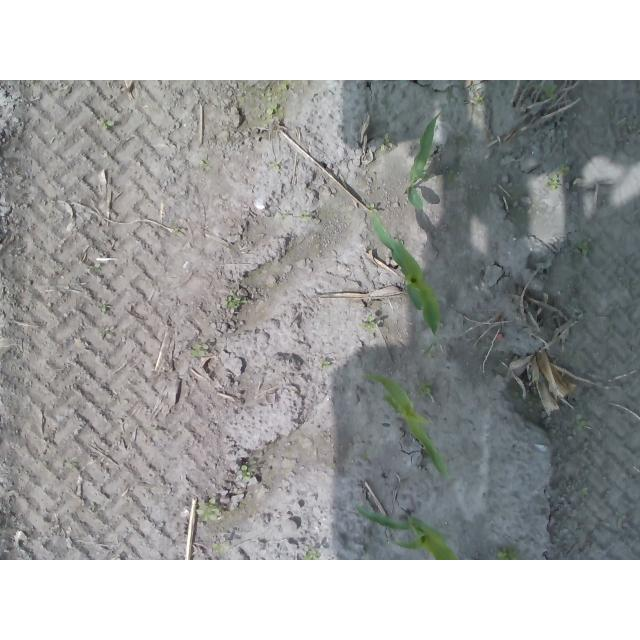Maize: (356, 370, 452, 483), (368, 209, 440, 337), (354, 504, 459, 560), (405, 112, 443, 218)
Weeds: (548, 163, 571, 189), (197, 499, 219, 522), (265, 90, 283, 117), (416, 381, 433, 398), (574, 415, 590, 433), (495, 548, 517, 561), (194, 343, 211, 358), (380, 136, 395, 153), (577, 241, 592, 255), (360, 318, 376, 330), (303, 550, 322, 560), (213, 543, 228, 554), (241, 464, 251, 480), (543, 85, 557, 96), (100, 120, 114, 131), (98, 327, 113, 337), (96, 303, 108, 315), (224, 297, 237, 306), (301, 211, 311, 222), (476, 94, 485, 104), (270, 163, 278, 170)
